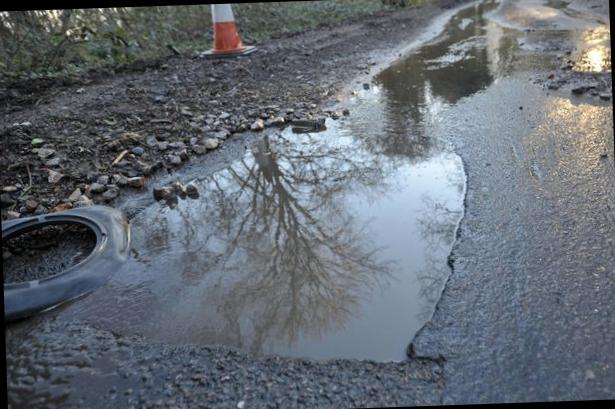pothole: (10, 110, 475, 378), (341, 4, 547, 114)
